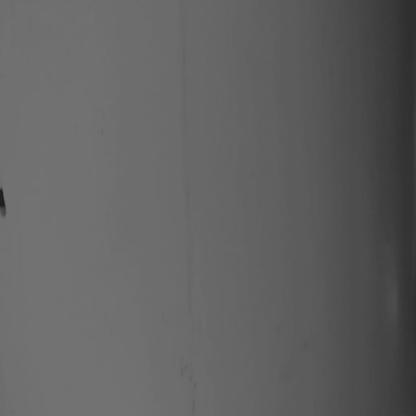kongdong: (1, 183, 13, 227)
